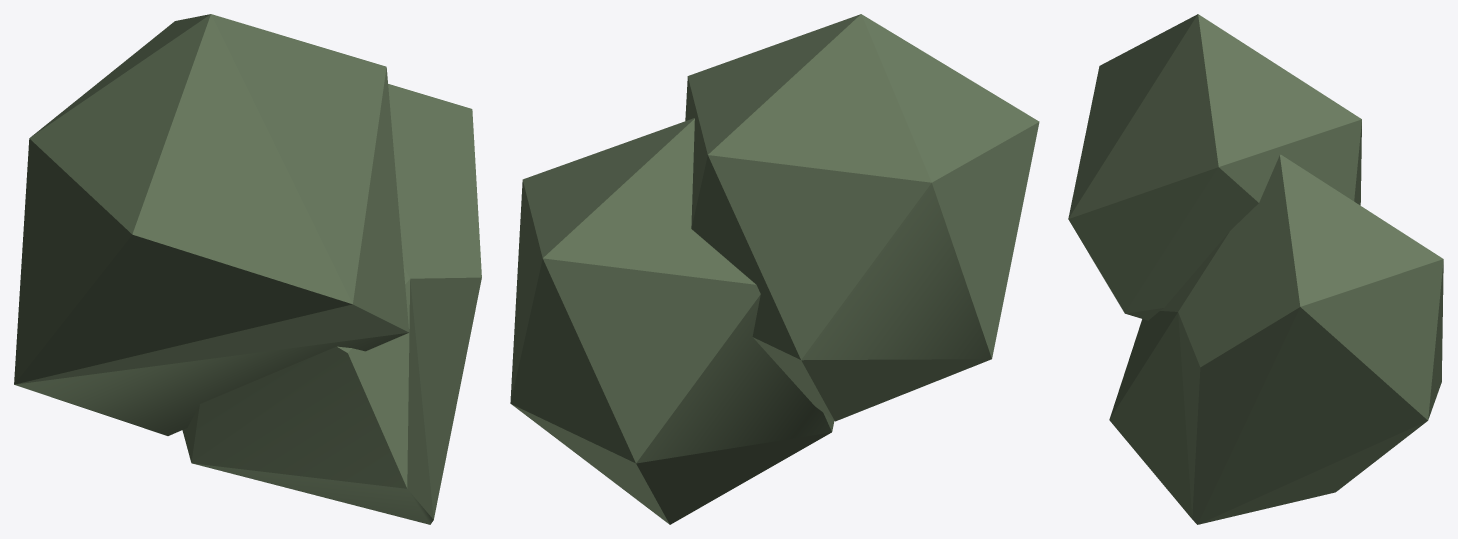
File: Bush_6.fbx
3 views of the same model, side by side, from view 1: azimuth 30°, elevation 25°; view 2: azimuth 150°, elevation 25°; view 3: azimuth 270°, elevation 25° (orthographic). The views are drawn at different scales.
Visible parts, largest first — view 1: Bush15; view 2: Bush15; view 3: Bush15.
Part boxes in pixels (x1,y1,x2,y2): Bush15: [14, 14, 481, 524]; Bush15: [510, 14, 1039, 524]; Bush15: [1068, 14, 1443, 524].
Bounding box in the file's own units: 167 × 179 × 142.
